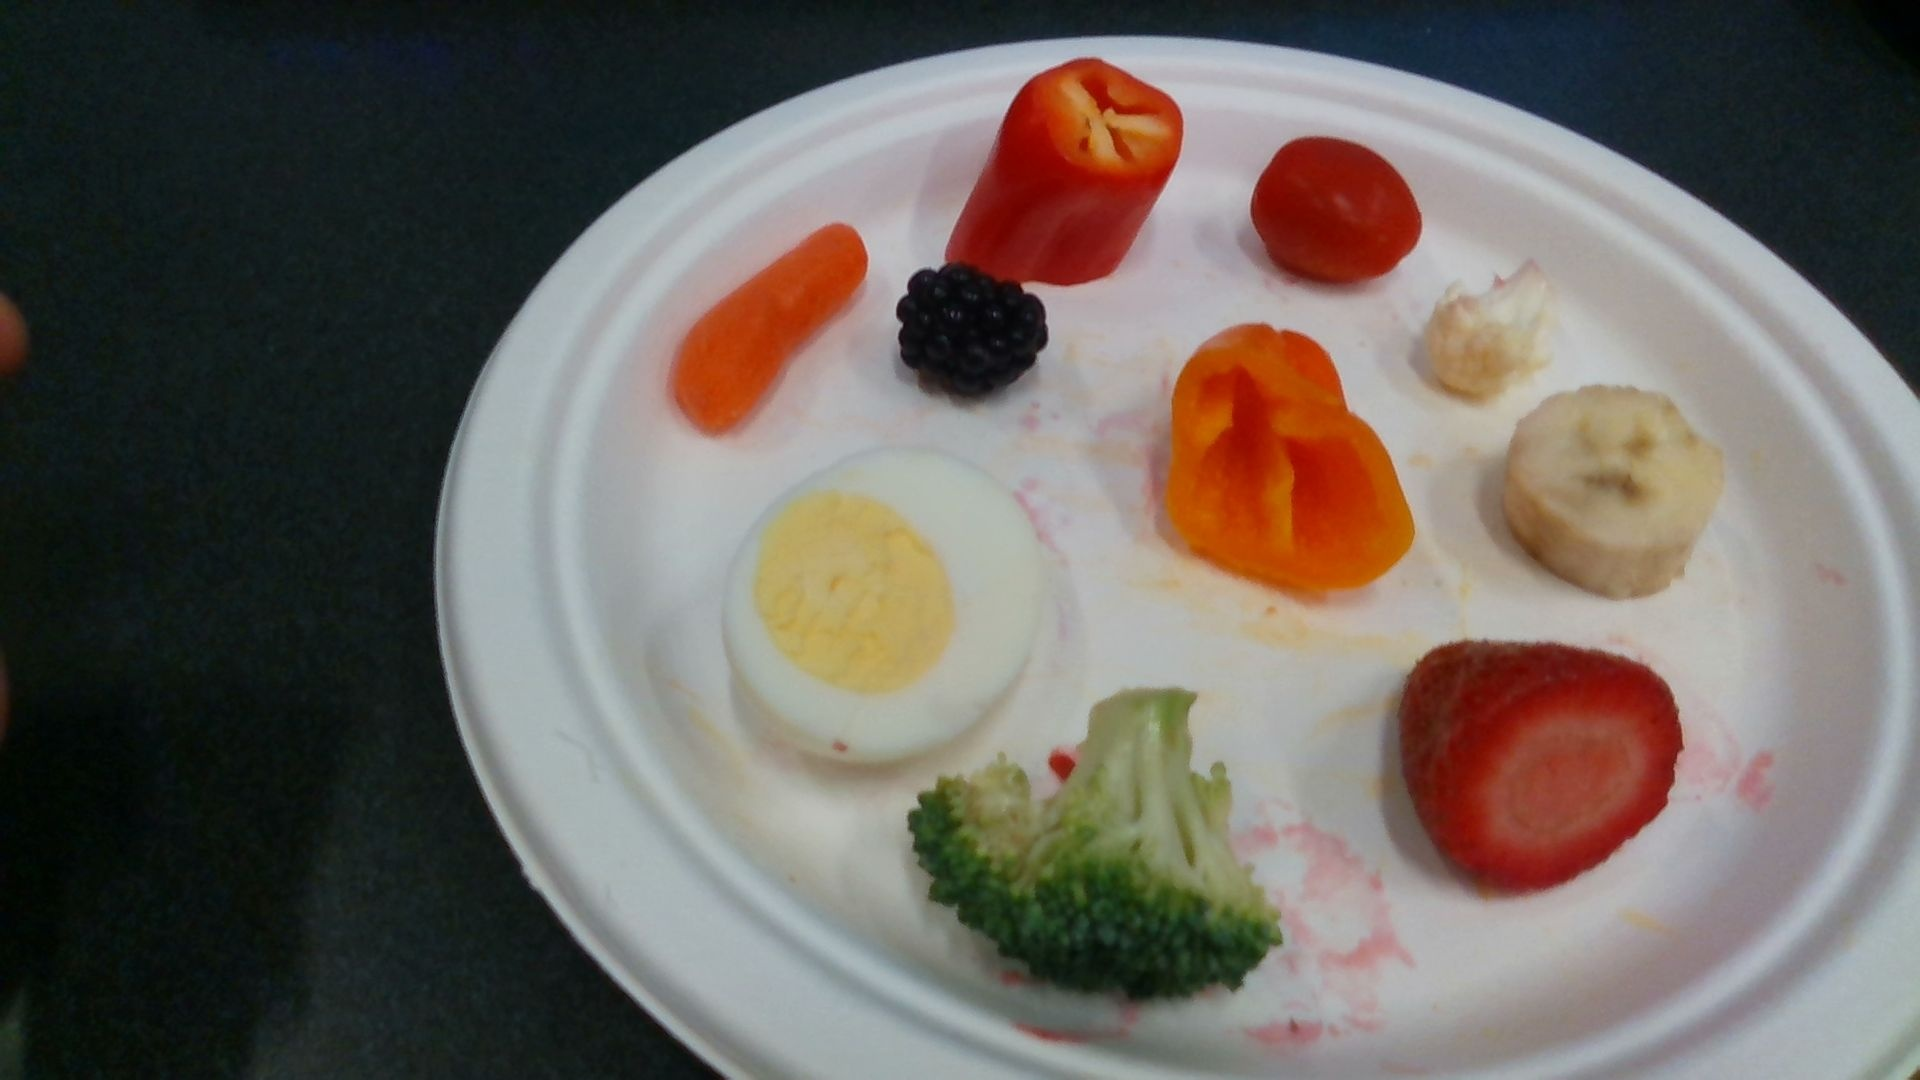banana: (1505, 385, 1727, 597)
bell_pepper: (1172, 326, 1415, 596), (947, 55, 1184, 280)
blackberry: (902, 266, 1048, 396)
broccoli: (913, 690, 1282, 998)
carrot: (674, 225, 866, 435)
cauliflower: (1427, 260, 1555, 400)
cherry_tomato: (1254, 140, 1424, 281)
egg: (719, 446, 1040, 764)
strawberry: (1402, 645, 1684, 895)
